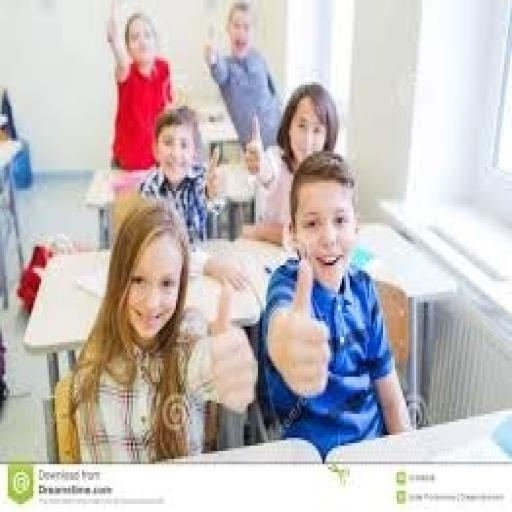sitting: (51, 191, 258, 464), (254, 149, 414, 459), (238, 80, 340, 246), (104, 0, 180, 175), (202, 0, 284, 154), (135, 104, 221, 244)
